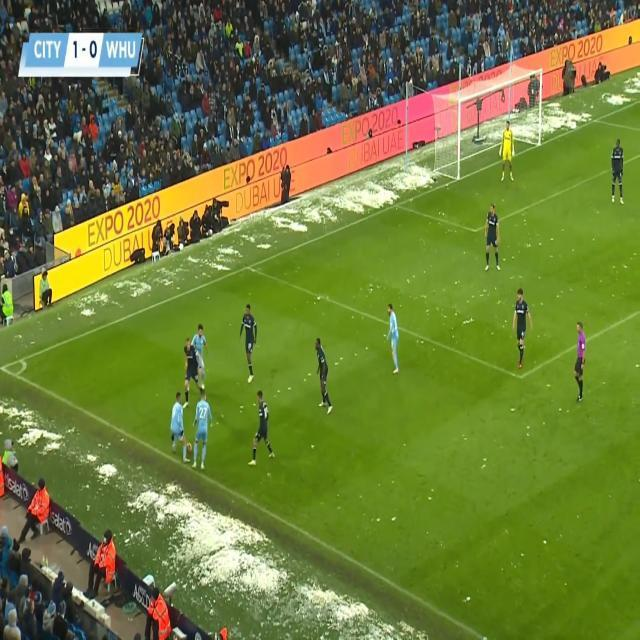ball: (186, 440, 194, 460)
goalkeeper: (499, 117, 516, 195)
player: (248, 374, 278, 484), (308, 330, 338, 426), (238, 298, 261, 392), (383, 302, 406, 388), (481, 204, 504, 280), (512, 288, 532, 375), (611, 133, 630, 219), (196, 374, 214, 464), (179, 338, 203, 398), (192, 322, 212, 382), (169, 380, 184, 453)
referee: (573, 322, 592, 410)
